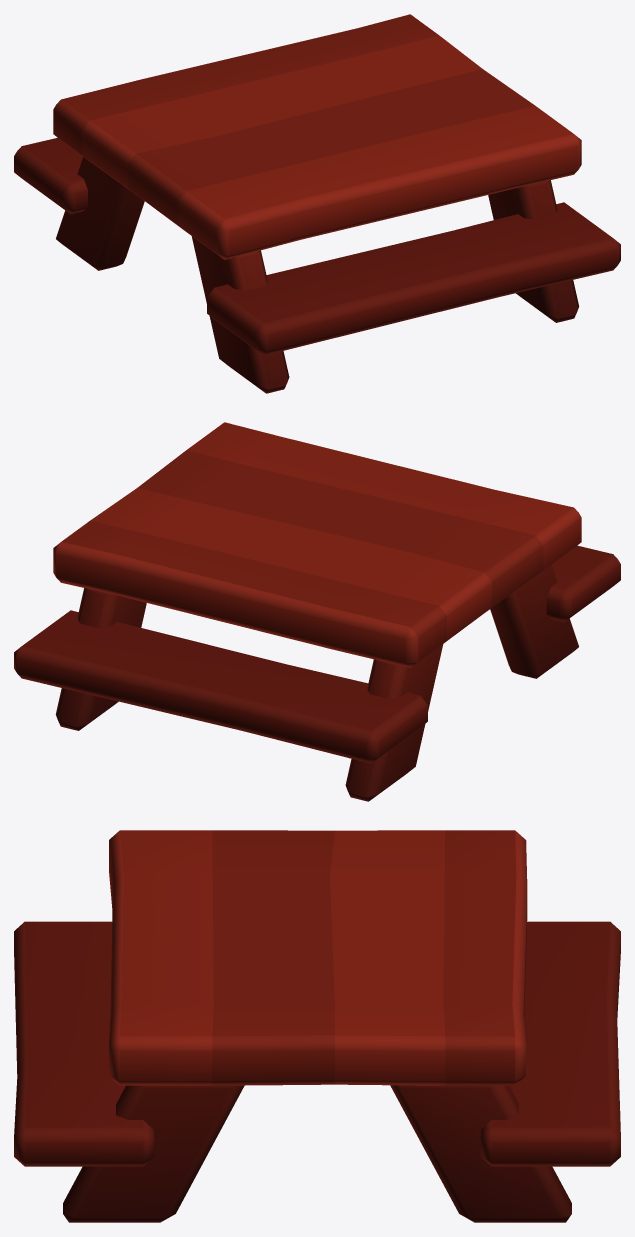
File: Obstacle_Bench_01.fbx
3 views of the same model, one above another, from view 1: azimuth 30°, elevation 25°; view 2: azimuth 150°, elevation 25°; view 3: azimuth 270°, elevation 25° (orthographic). The views are drawn at different scales.
Parts seen in each view (by area): view 1: Obstacle_Bench_01; view 2: Obstacle_Bench_01; view 3: Obstacle_Bench_01.
Boxes of the visible parts, left/top/right/bottom form: Obstacle_Bench_01: left=14, top=14, right=620, bottom=393; Obstacle_Bench_01: left=14, top=422, right=620, bottom=801; Obstacle_Bench_01: left=14, top=830, right=620, bottom=1222.
Bounding box in the file's own units: 0.7831 × 0.337 × 0.9334.
